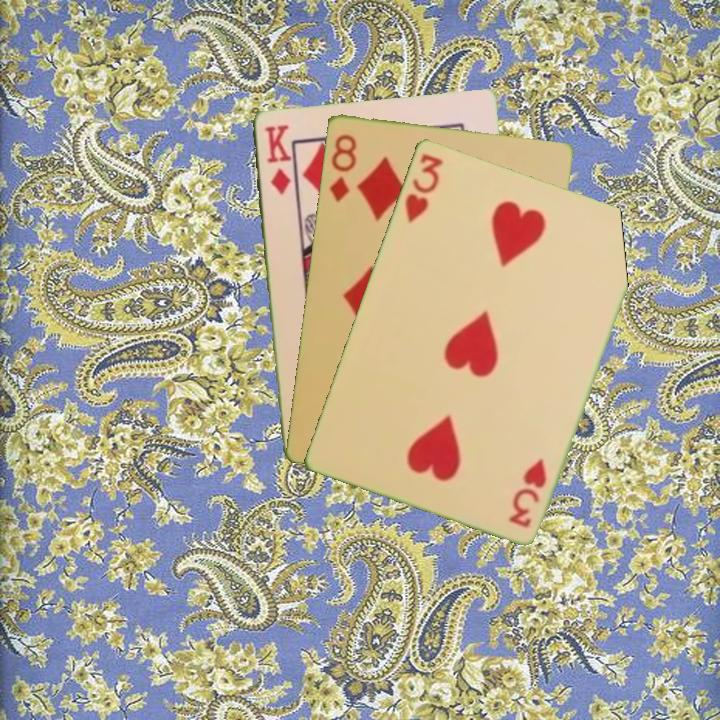3h: (400, 149, 446, 225), (504, 454, 549, 531)
8d: (326, 130, 359, 205)
Kd: (261, 121, 294, 198)
